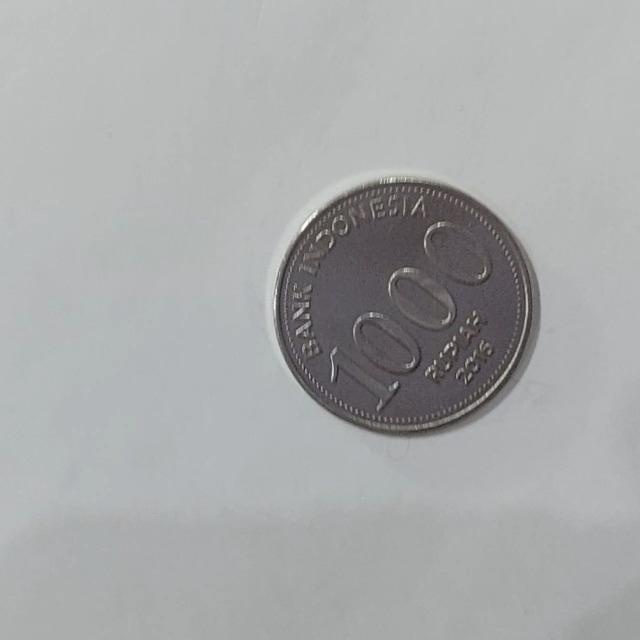Rp100: (270, 172, 540, 435)
